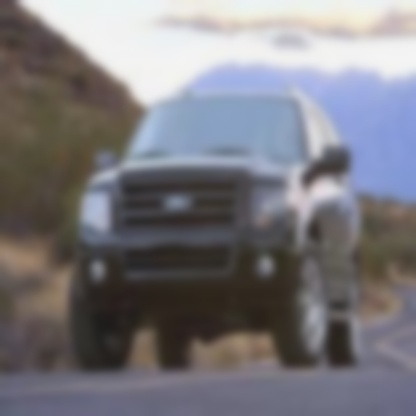Vehicle: (67, 87, 366, 375)
